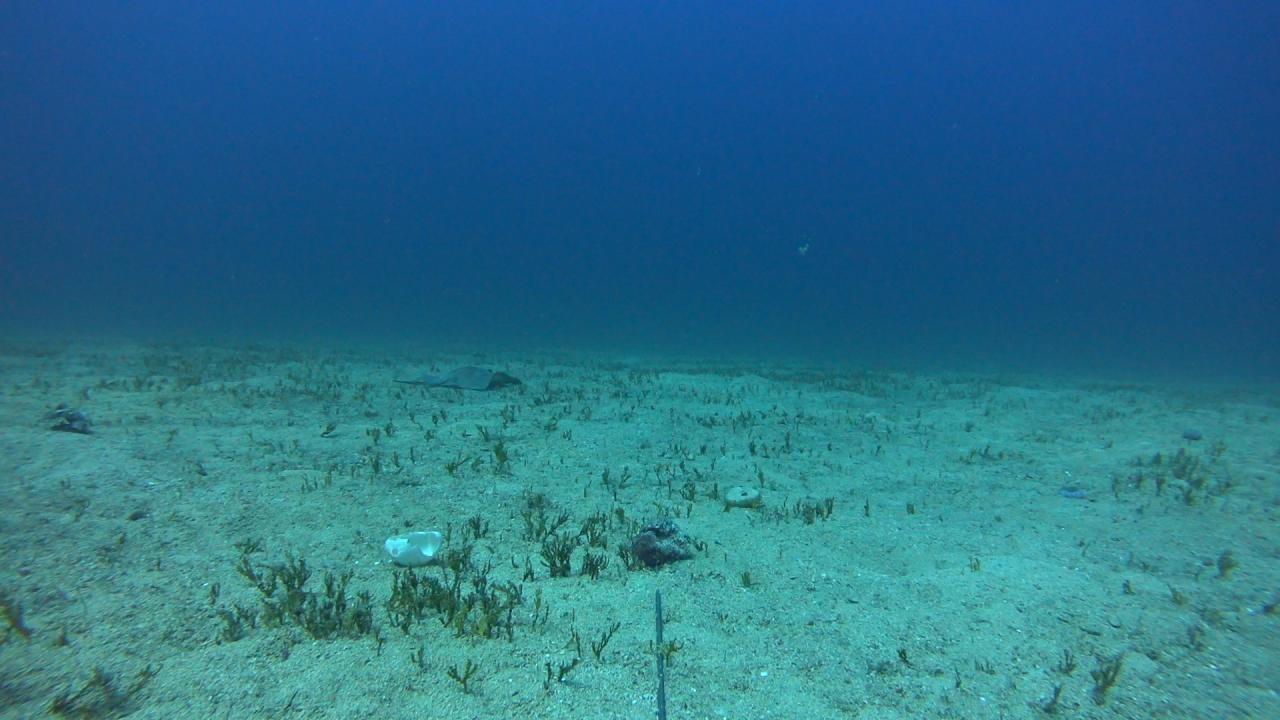dasyatis: (391, 364, 522, 390)
